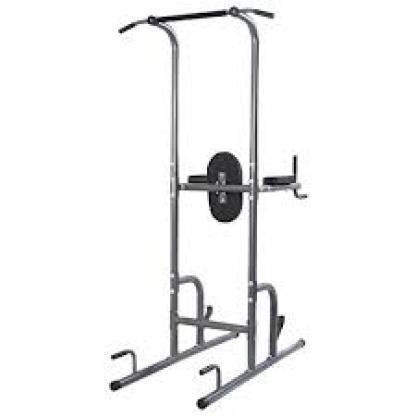chinning dipping: (109, 6, 307, 409)
